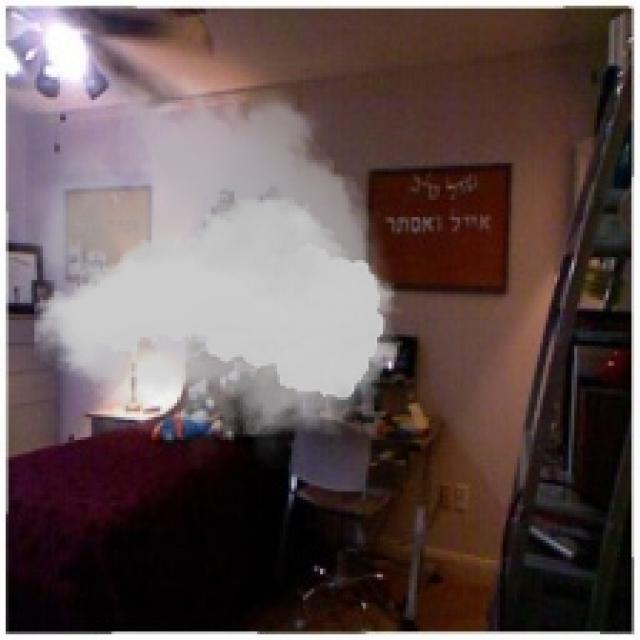Smoke: (9, 49, 412, 468)
